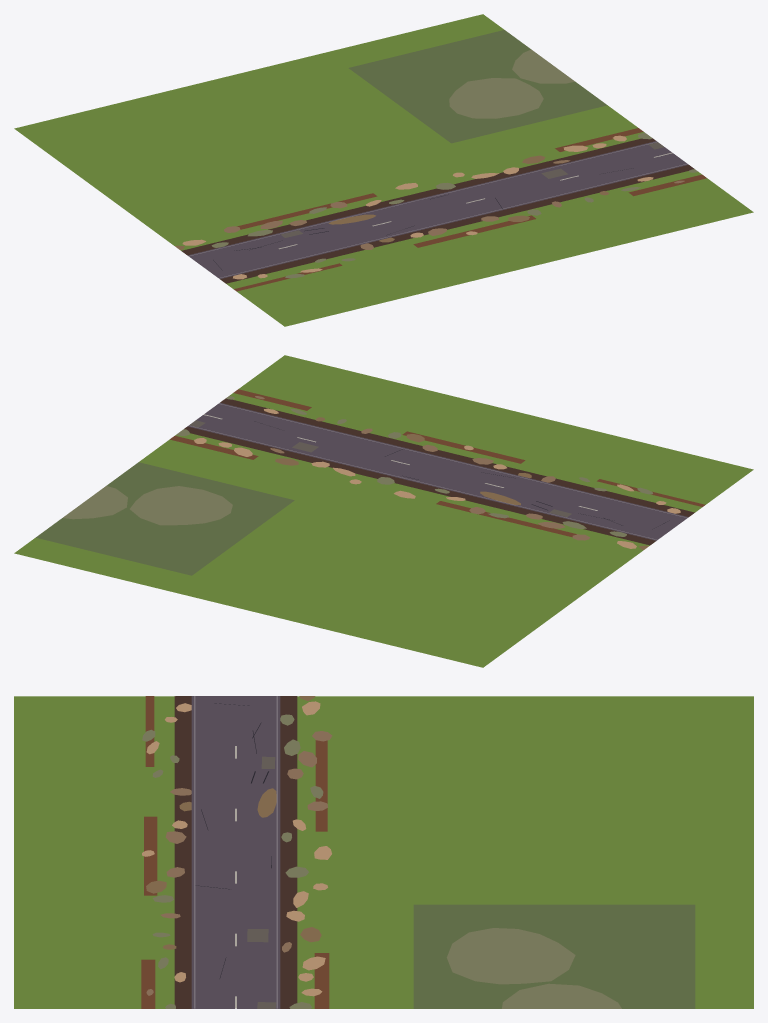
The model's file is crossing-7-0.glb.
3 views of the same model, one above another, from view 1: azimuth 30°, elevation 25°; view 2: azimuth 150°, elevation 25°; view 3: azimuth 270°, elevation 25° (orthographic). The views are drawn at different scales.
Visible parts, largest first — view 1: crossing-7-0; view 2: crossing-7-0; view 3: crossing-7-0.
Part boxes in pixels (<box>): crossing-7-0: <box>14,14,753,326</box>; crossing-7-0: <box>14,355,753,667</box>; crossing-7-0: <box>14,696,753,1008</box>.
Size of the model in its own units: 100 by 0.0145 by 100.
